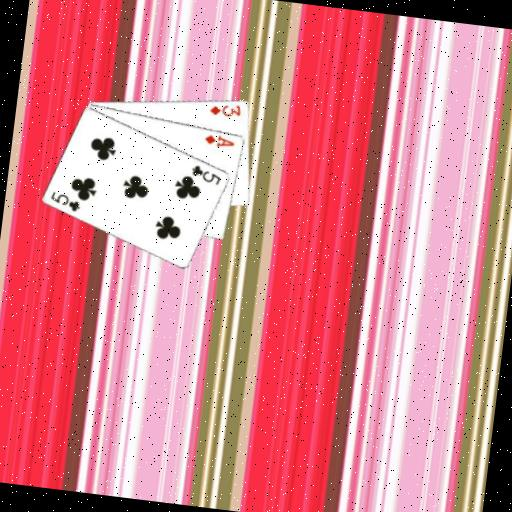3D: (206, 99, 243, 120)
5C: (47, 188, 83, 214), (188, 162, 224, 187)
AD: (202, 131, 237, 150)
